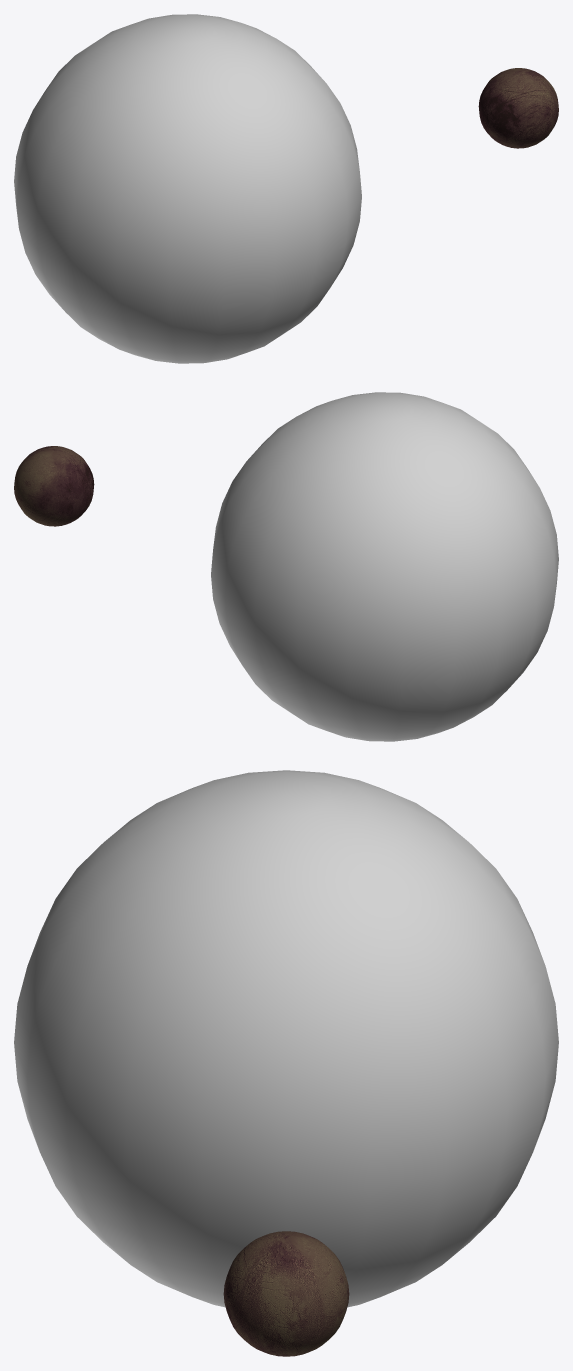
File: bane.fbx
3 renders of one model, top to bottom at view 1: azimuth 30°, elevation 25°; view 2: azimuth 150°, elevation 25°; view 3: azimuth 270°, elevation 25°, orthographic. The views are drawn at different scales.
Visible parts, largest first — view 1: Bane_clouds, banemoon; view 2: Bane_clouds, banemoon; view 3: Bane_clouds, banemoon.
Boxes of the visible parts, bbox=[...] form: Bane_clouds: bbox=[14, 14, 361, 363]; banemoon: bbox=[478, 68, 558, 148]; Bane_clouds: bbox=[211, 392, 558, 741]; banemoon: bbox=[14, 446, 94, 526]; Bane_clouds: bbox=[14, 770, 558, 1307]; banemoon: bbox=[223, 1231, 349, 1356].
Size of the model in its own units: 47.08 by 27.59 by 27.59.
